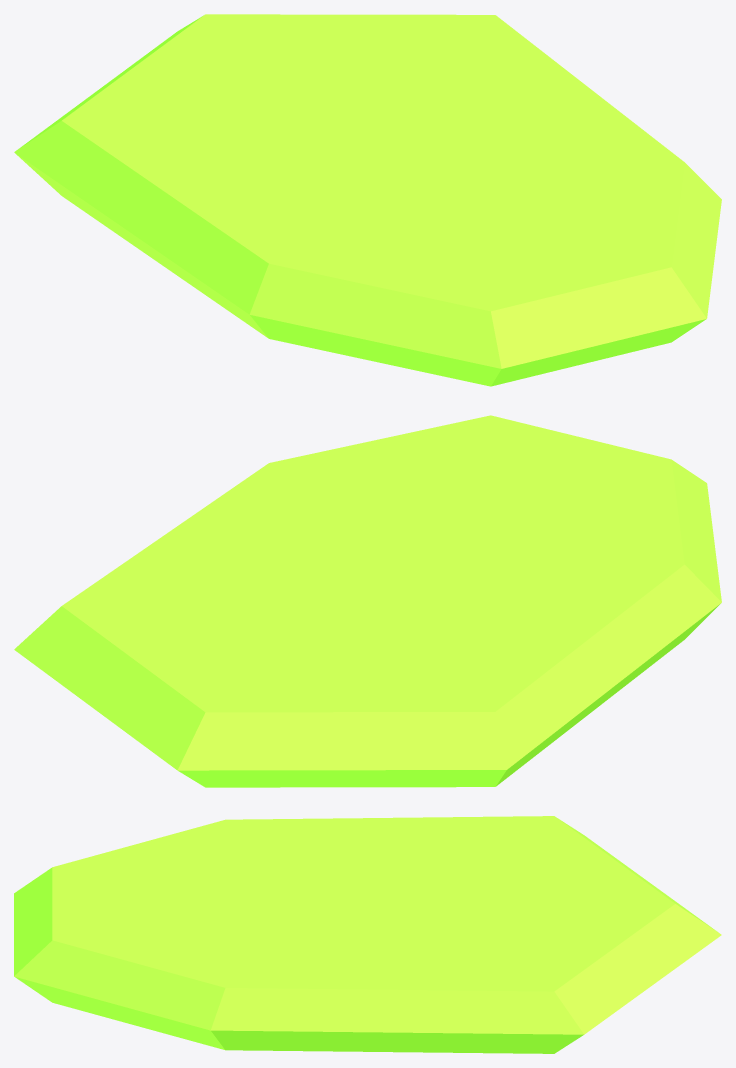
File: player_upgrade_overclock.glb
The picture shows the model from 3 angles, top to bottom: view 1: azimuth 30°, elevation 25°; view 2: azimuth 150°, elevation 25°; view 3: azimuth 270°, elevation 25°; orthographic projection. The views are drawn at different scales.
Visible parts, largest first — view 1: PLAYER UPGRADE // OVERCLOCK REACTOR; view 2: PLAYER UPGRADE // OVERCLOCK REACTOR; view 3: PLAYER UPGRADE // OVERCLOCK REACTOR.
Boxes of the visible parts, x1,y1,x2,y2 form: PLAYER UPGRADE // OVERCLOCK REACTOR: (14,14,721,386); PLAYER UPGRADE // OVERCLOCK REACTOR: (14,415,721,787); PLAYER UPGRADE // OVERCLOCK REACTOR: (14,816,721,1053).
Size of the model in its own units: 0.96 by 0.14 by 1.44.
